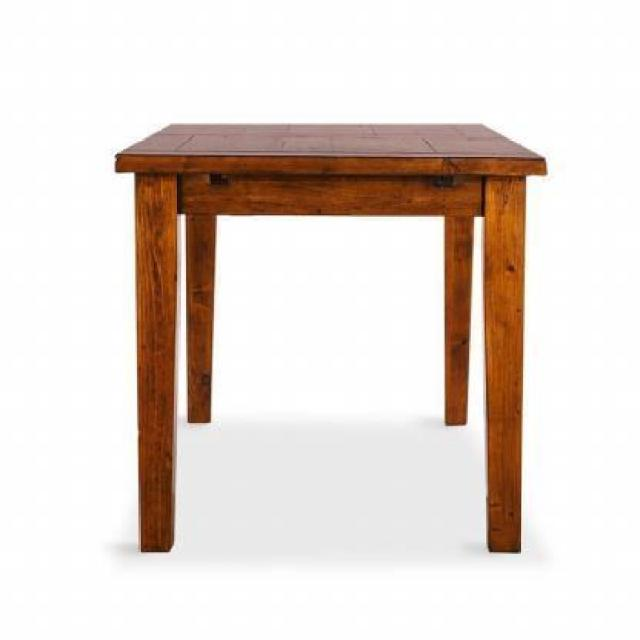tables: (114, 121, 548, 554)
